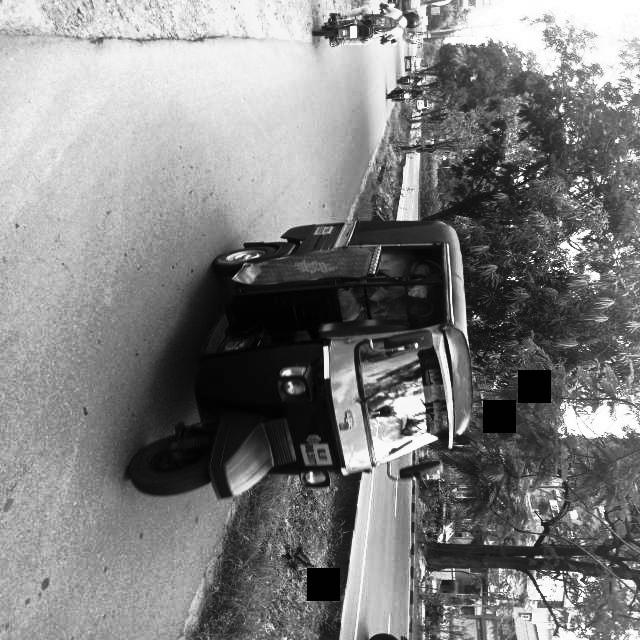Auto-Rickshaw: (116, 216, 486, 498)
